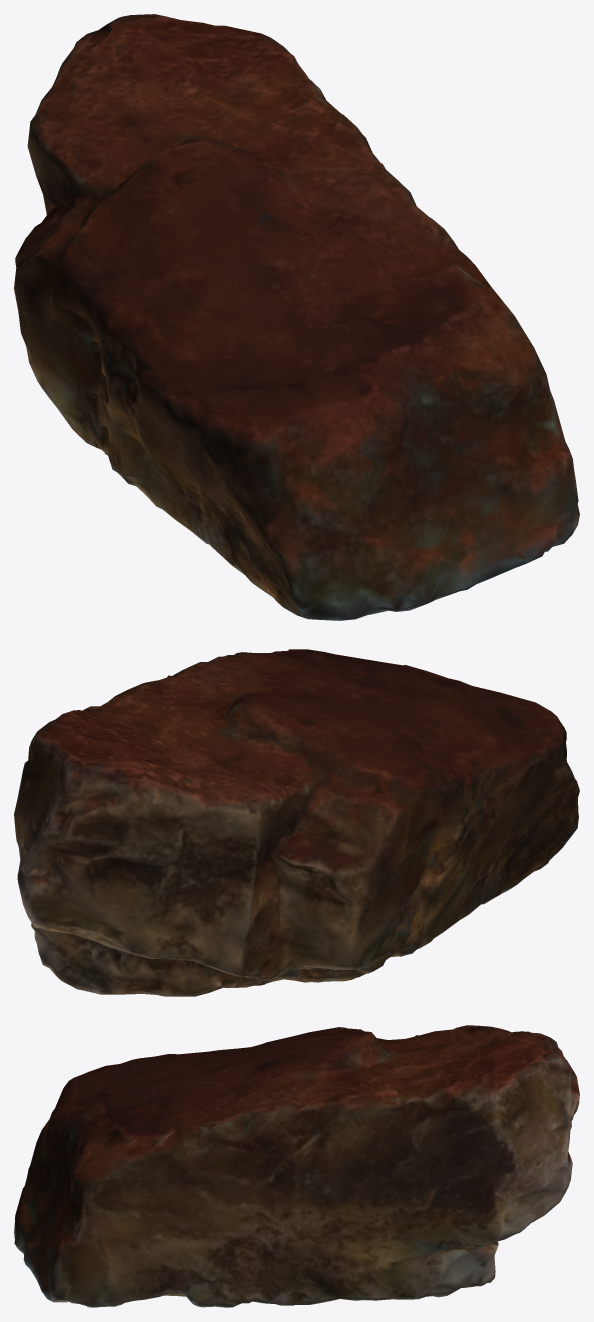
Rendered from rock_07.glb.
3 views of the same model, one above another, from view 1: azimuth 30°, elevation 25°; view 2: azimuth 150°, elevation 25°; view 3: azimuth 270°, elevation 25° (orthographic). The views are drawn at different scales.
Visible parts, largest first — view 1: rock_07; view 2: rock_07; view 3: rock_07.
Boxes of the visible parts, <box> form: rock_07: <box>14,14,579,620</box>; rock_07: <box>14,649,579,996</box>; rock_07: <box>14,1025,579,1307</box>.
Size of the model in its own units: 0.1686 by 0.1437 by 0.3202.
Materials: 1 (1 with a texture image).
